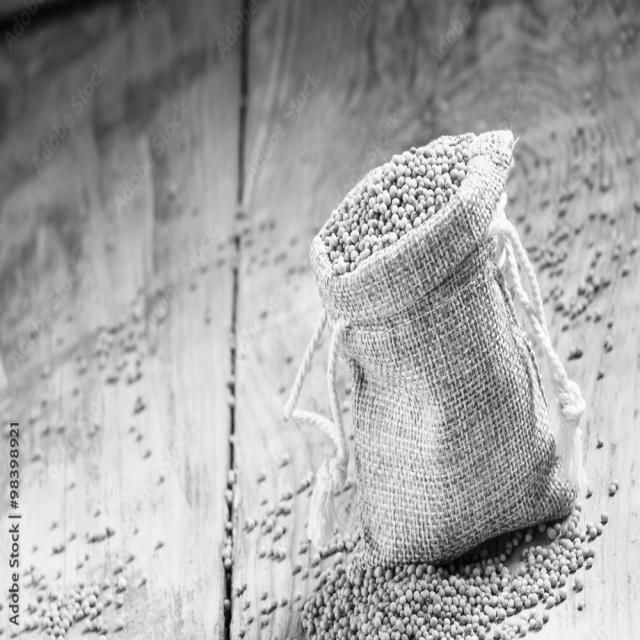sack: (283, 128, 584, 578)
